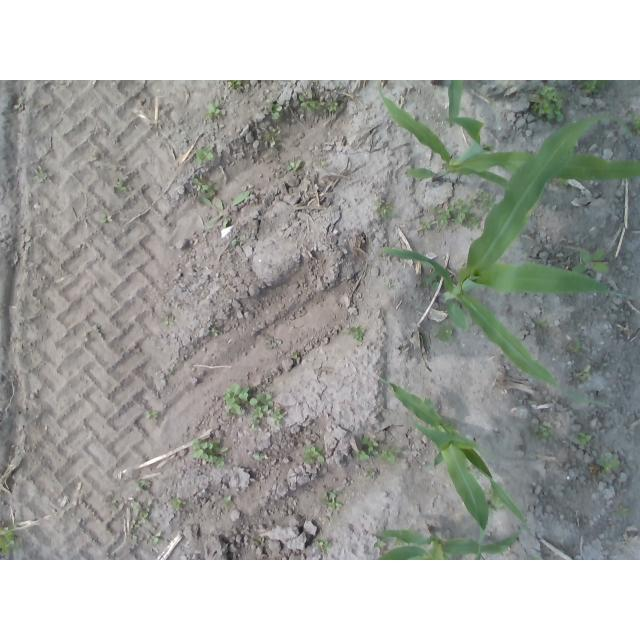Maize: (378, 114, 615, 406), (371, 372, 529, 560), (376, 80, 640, 189), (373, 525, 524, 560)
Weeds: (199, 191, 249, 230), (430, 196, 482, 229), (530, 85, 567, 125), (191, 438, 229, 469), (571, 248, 609, 275), (222, 383, 249, 417), (250, 393, 275, 429), (191, 177, 220, 203), (352, 437, 380, 462), (596, 452, 621, 477), (0, 523, 20, 554), (299, 91, 326, 112), (132, 499, 153, 524), (301, 446, 326, 465), (322, 488, 343, 510), (373, 200, 396, 219), (435, 324, 456, 343), (265, 126, 284, 146), (581, 80, 608, 94), (195, 147, 216, 165), (477, 190, 495, 211), (342, 326, 365, 342), (266, 101, 286, 119), (381, 447, 402, 464), (530, 424, 551, 441), (486, 495, 505, 513), (421, 274, 441, 291), (145, 529, 164, 546), (573, 364, 591, 381), (627, 113, 640, 135), (207, 100, 222, 119), (316, 538, 332, 554), (115, 179, 133, 193), (573, 432, 592, 445), (33, 167, 48, 182), (272, 410, 285, 426), (285, 161, 303, 171), (394, 537, 410, 548), (129, 524, 140, 540), (536, 316, 549, 329), (618, 504, 630, 517), (569, 340, 582, 352), (135, 480, 149, 491), (326, 101, 340, 112), (146, 411, 161, 420), (559, 176, 570, 188), (171, 497, 181, 510), (100, 213, 113, 223), (418, 219, 431, 229), (222, 495, 232, 507), (160, 319, 175, 327), (374, 539, 387, 548), (227, 80, 241, 88), (252, 452, 263, 460), (367, 470, 376, 478), (232, 238, 240, 246), (387, 282, 394, 290), (293, 353, 300, 360), (204, 80, 213, 85), (210, 328, 218, 333)
